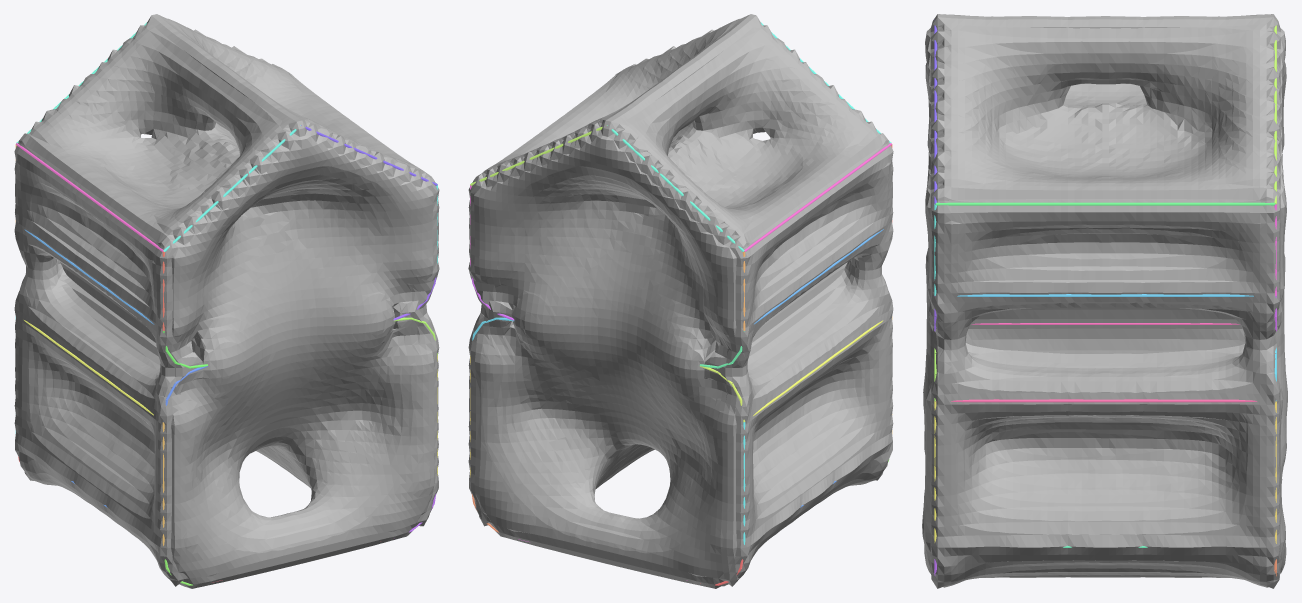
Rendered from onshape_house.gltf.
The picture shows the model from 3 angles, left to right: view 1: azimuth 30°, elevation 25°; view 2: azimuth 150°, elevation 25°; view 3: azimuth 270°, elevation 25°; orthographic projection. The views are drawn at different scales.
Bounding box in the file's own units: 0.507 × 0.7588 × 0.4913.
